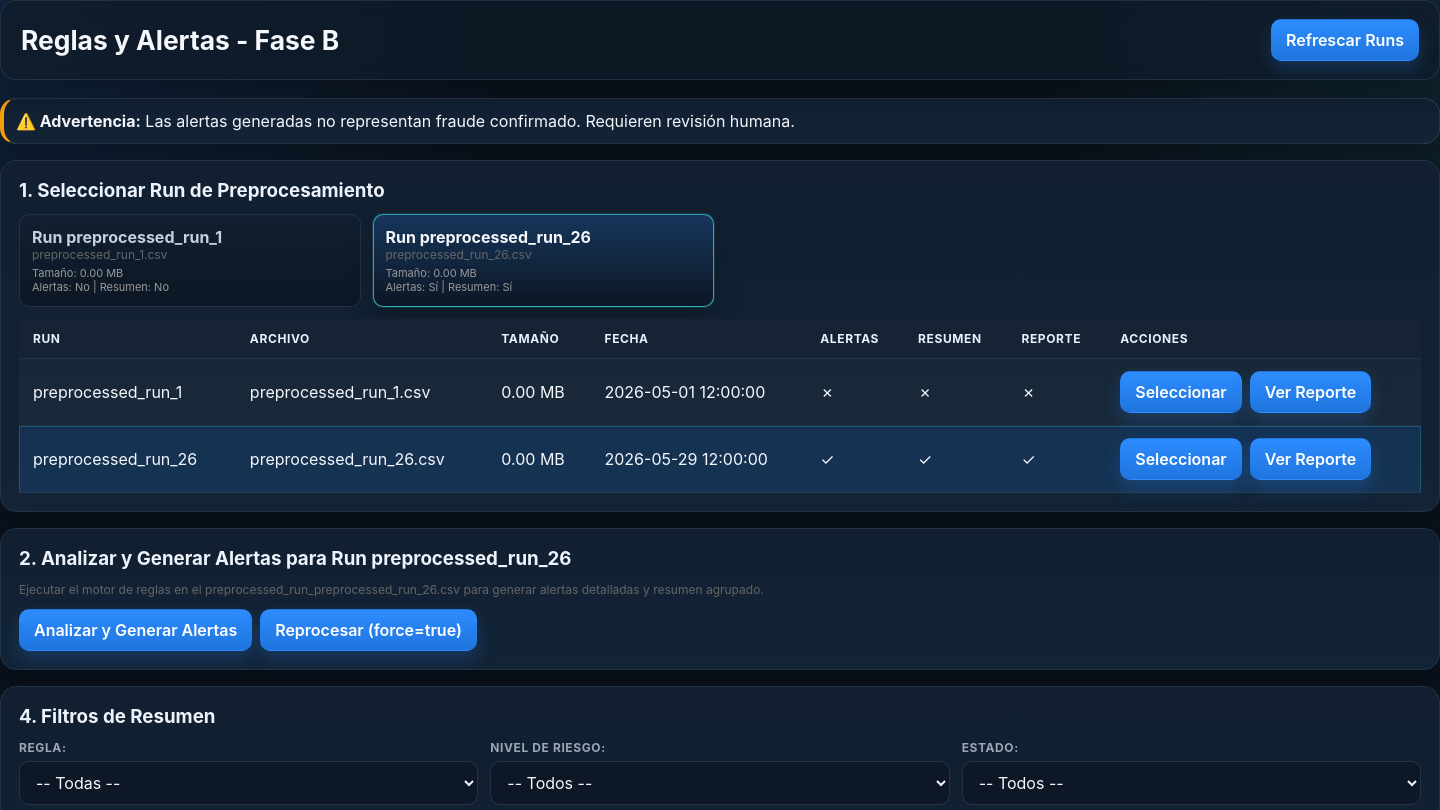
Scenario: RulesAlerts page › shows an empty message when grouped transactions are missing
Click the button "Analizar y Generar Alertas" at (136, 630), box [19,609,252,651]
(page scrolled)
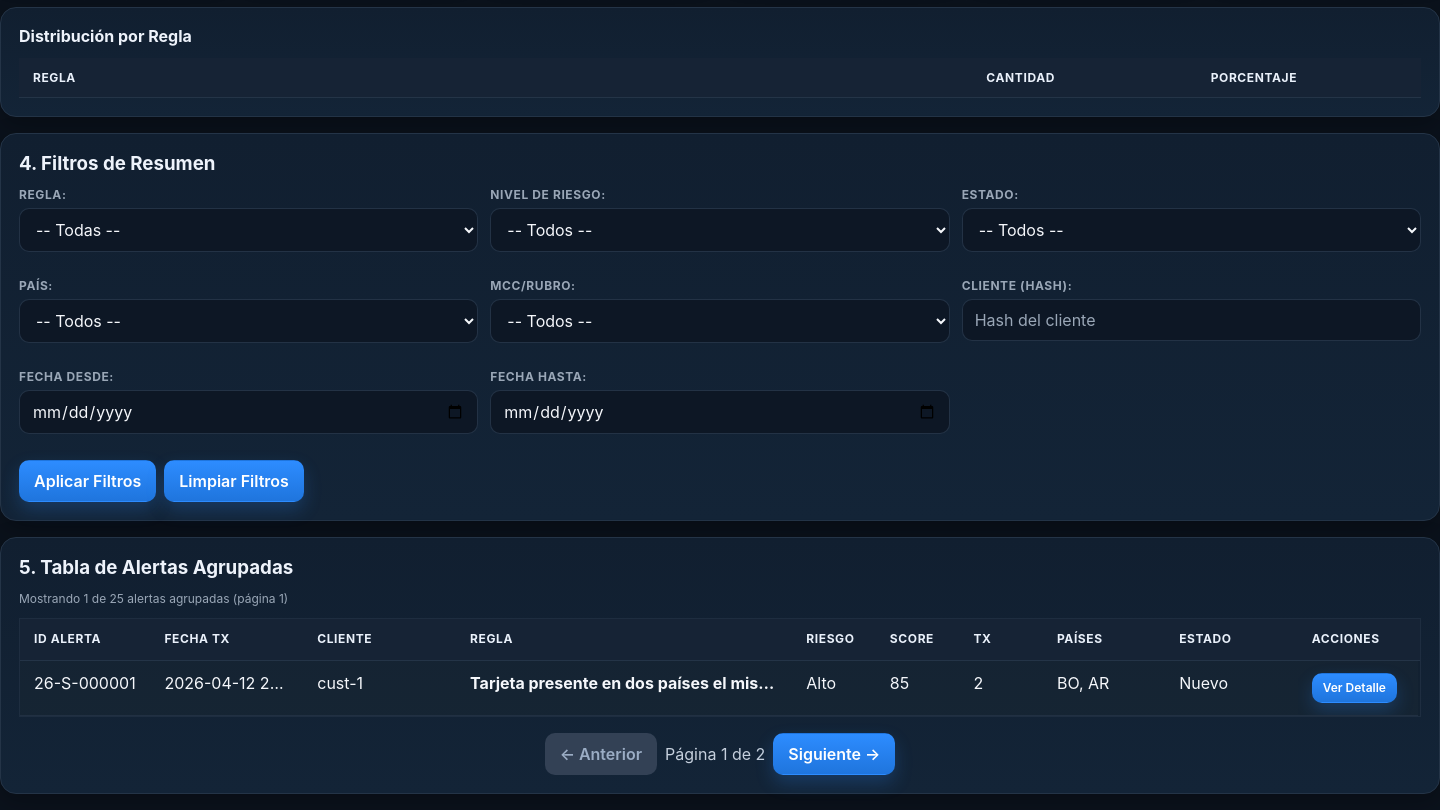
Check: the button "Ver Detalle" is shown
Click the button "Ver Detalle" at (1354, 688), box [1312,673,1397,703]
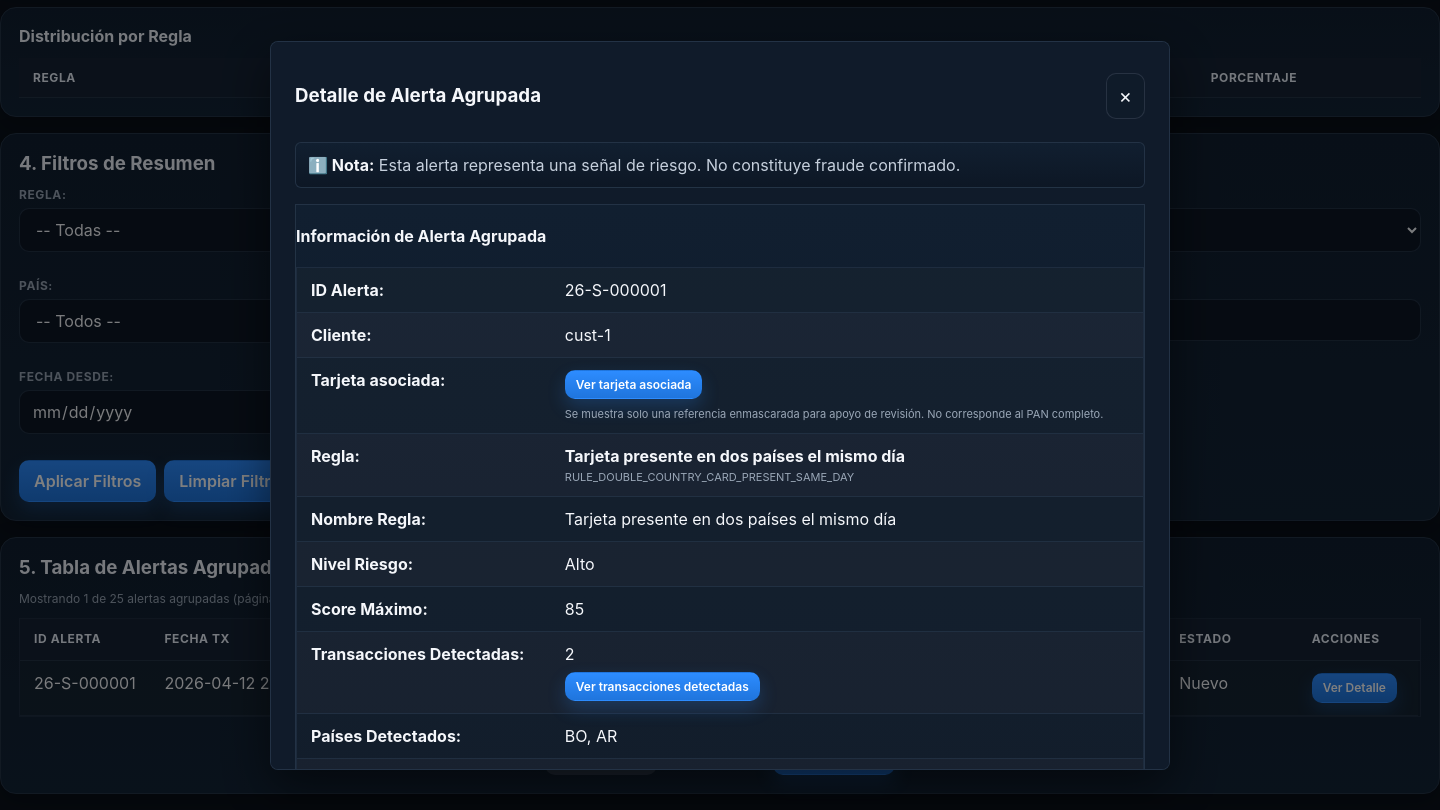
Click the button "Ver transacciones detectadas" at (662, 687), box [565,672,760,702]
(page scrolled)
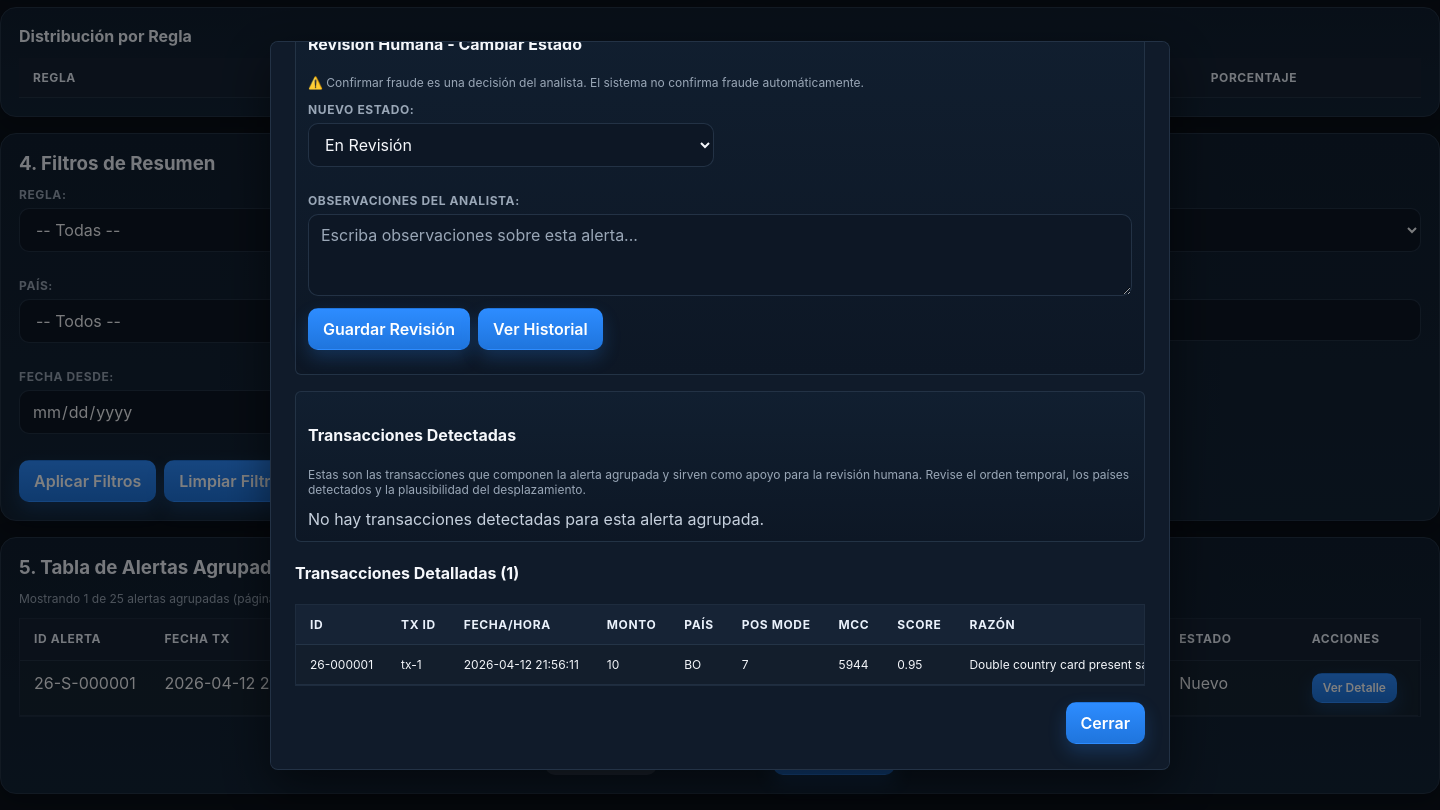
Check: the text "No hay transacciones detectadas para esta alerta agrupada." is shown, box [308,508,764,528]
